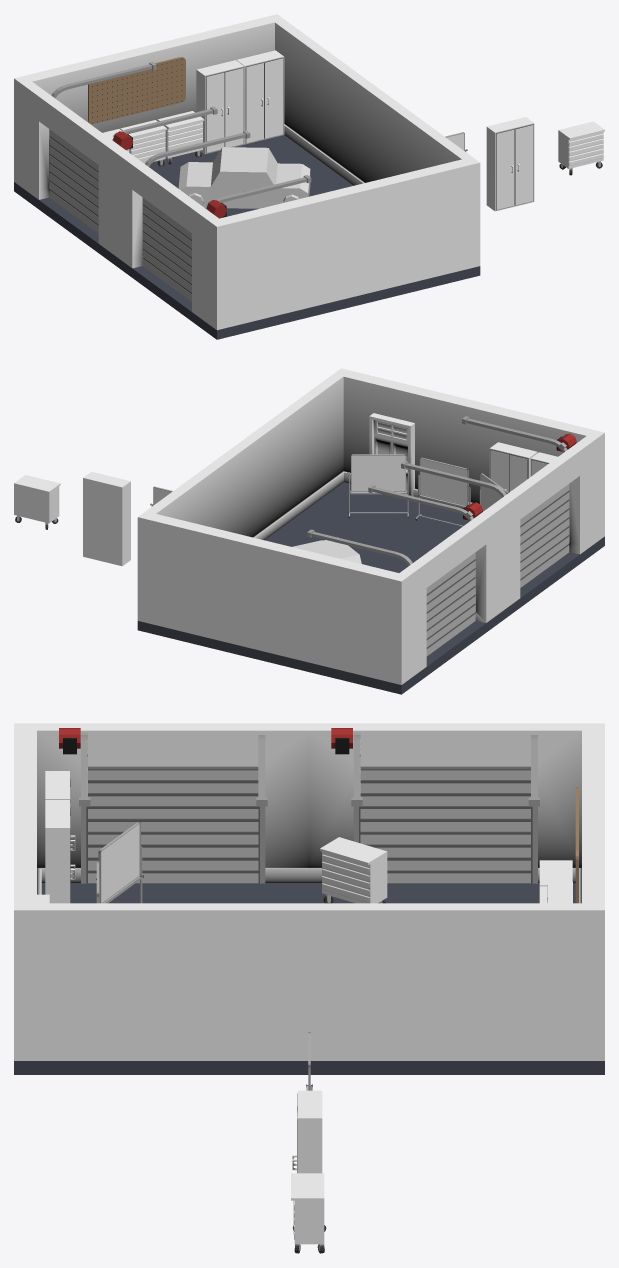
Rendered from Garage_Base.fbx.
3 renders of one model, top to bottom at view 1: azimuth 30°, elevation 25°; view 2: azimuth 150°, elevation 25°; view 3: azimuth 270°, elevation 25°, orthographic. The views are drawn at different scales.
Visible parts, largest first — view 1: Walls, Floor, TEMPCar, Cabinet, ToolWall, Cabinet_3, Cabinet_4, GarageDoor_2, GarageDoor_1, Toolbox.004, GarageDoorhull_1, GarageDoorhull_2 (+2 smaller); view 2: Walls, Floor, Cabinet, GarageDoor_2, GarageDoor_1, Door, Whiteboard.004, Toolbox.004, Cabinet_1, Whiteboard.005, GarageDoorhull_2, GarageDoorhull_1 (+2 smaller); view 3: Walls, GarageDoor_2, GarageDoor_1, Floor, Toolbox.005, Cabinet_1, GarageDoorhull_1, GarageDoorhull_2, Whiteboard.006, Toolbox.004, Cabinet, Cabinet_2 (+1 smaller).
Part boxes in pixels (<box>): Walls: <box>14,14,480,330</box>; Floor: <box>14,135,480,339</box>; TEMPCar: <box>178,147,310,208</box>; Cabinet: <box>486,117,534,211</box>; ToolWall: <box>88,57,185,124</box>; Cabinet_3: <box>196,60,244,153</box>; Cabinet_4: <box>236,50,284,144</box>; GarageDoor_2: <box>49,129,98,233</box>; GarageDoor_1: <box>143,198,191,301</box>; Toolbox.004: <box>558,121,604,168</box>; GarageDoorhull_1: <box>142,130,311,255</box>; GarageDoorhull_2: <box>49,62,217,187</box>; Walls: <box>137,368,604,684</box>; Floor: <box>137,482,604,694</box>; Cabinet: <box>83,471,130,566</box>; GarageDoor_2: <box>426,552,475,656</box>; GarageDoor_1: <box>520,484,569,587</box>; Door: <box>369,413,414,496</box>; Whiteboard.004: <box>351,454,406,491</box>; Toolbox.004: <box>14,475,60,523</box>; Cabinet_1: <box>489,442,537,492</box>; Whiteboard.005: <box>419,457,468,505</box>; GarageDoorhull_2: <box>307,485,482,610</box>; GarageDoorhull_1: <box>401,416,576,541</box>; Walls: <box>14,723,604,1060</box>; GarageDoor_2: <box>359,766,532,883</box>; GarageDoor_1: <box>86,766,259,883</box>; Floor: <box>14,883,604,1074</box>; Toolbox.005: <box>320,837,387,903</box>; Cabinet_1: <box>45,800,75,903</box>; GarageDoorhull_1: <box>59,728,267,883</box>; GarageDoorhull_2: <box>331,728,539,883</box>; Whiteboard.006: <box>98,822,140,903</box>; Toolbox.004: <box>291,1173,324,1244</box>; Cabinet: <box>292,1090,322,1173</box>; Cabinet_2: <box>45,771,75,850</box>.
Size of the model in its own units: 2749 by 834 by 2000.
